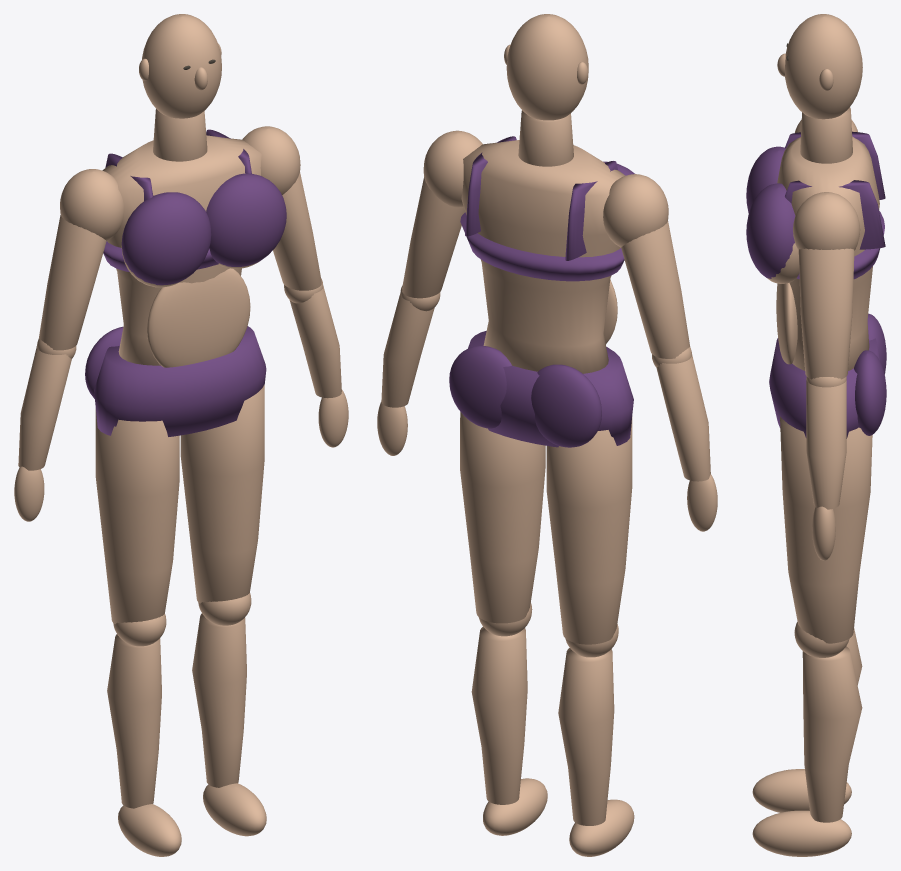
Rendered from body.glb.
3 renders of one model, left to right at view 1: azimuth 30°, elevation 25°; view 2: azimuth 150°, elevation 25°; view 3: azimuth 270°, elevation 25°, orthographic.
Parts seen in each view (by area): view 1: thigh_right, thigh_left, briefs, torso, abdomen, calf_left, calf_right, sports_bra_right, head, sports_bra_left, upper_arm_right, forearm_right (+12 smaller); view 2: torso, thigh_right, thigh_left, calf_right, calf_left, head, upper_arm_right, briefs, glute_right, upper_arm_left, forearm_right, glute_left (+11 smaller); view 3: thigh_left, calf_left, upper_arm_left, head, torso, forearm_left, sports_bra_left, foot_left, shoulder_left, briefs, neck, glute_left (+12 smaller).
Boxes of the visible parts, box(x1,y1,x2,y2) form: thigh_right: box(95, 409, 179, 624); thigh_left: box(180, 385, 264, 603); briefs: box(94, 326, 266, 436); torso: box(102, 135, 261, 365); abdomen: box(147, 268, 250, 367); calf_left: box(192, 613, 246, 787); calf_right: box(107, 634, 161, 808); sports_bra_right: box(121, 192, 211, 285); head: box(142, 14, 221, 118); sports_bra_left: box(206, 173, 286, 266); upper_arm_right: box(39, 215, 106, 350); forearm_right: box(18, 346, 71, 470); torso: box(461, 140, 625, 373); thigh_right: box(546, 417, 632, 644); thigh_left: box(460, 412, 545, 623); calf_right: box(558, 648, 614, 825); calf_left: box(471, 626, 527, 804); head: box(506, 14, 588, 120); upper_arm_right: box(621, 221, 690, 358); briefs: box(468, 331, 633, 447); glute_right: box(531, 364, 601, 447); upper_arm_left: box(402, 177, 465, 298); forearm_right: box(656, 354, 710, 481); glute_left: box(449, 346, 511, 428); thigh_left: box(780, 416, 872, 643); calf_left: box(802, 646, 862, 822); upper_arm_left: box(798, 248, 854, 379); head: box(784, 14, 862, 119); torso: box(777, 136, 879, 370); forearm_left: box(806, 380, 846, 509); sports_bra_left: box(746, 183, 795, 278); foot_left: box(752, 810, 851, 856); shoulder_left: box(793, 192, 860, 250); briefs: box(769, 338, 880, 438); neck: box(800, 107, 852, 163); glute_left: box(854, 350, 886, 435).
Bounding box in the file's own units: 0.742 × 1.74 × 0.271.
